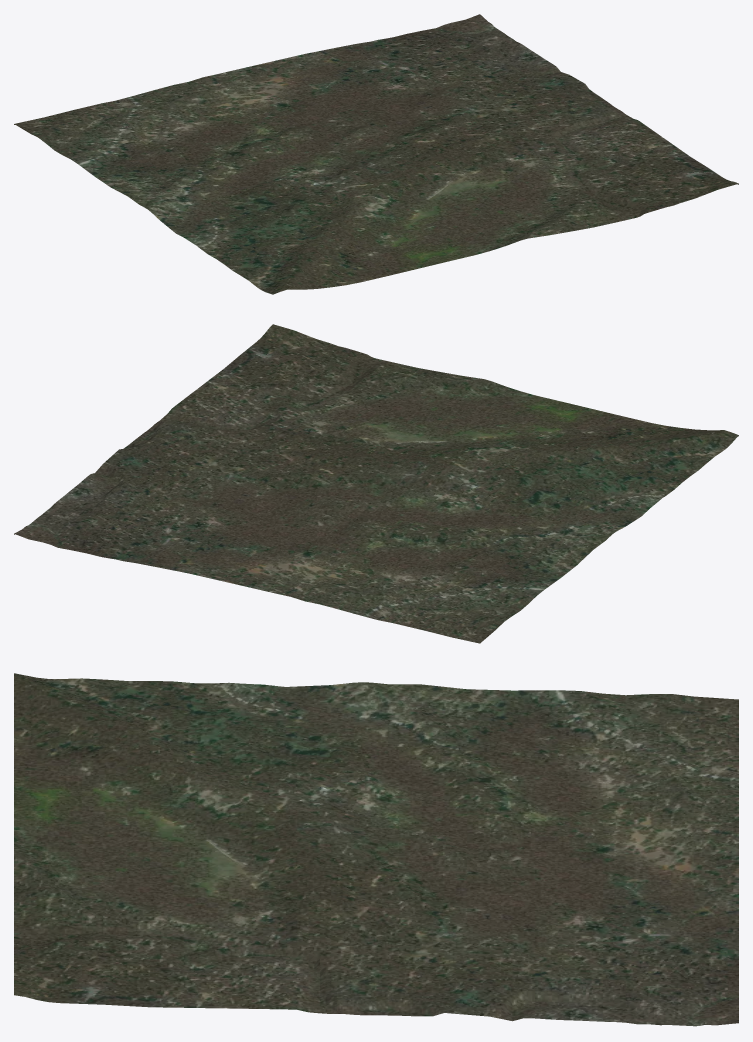
3 renders of one model, top to bottom at view 1: azimuth 30°, elevation 25°; view 2: azimuth 150°, elevation 25°; view 3: azimuth 270°, elevation 25°, orthographic. The views are drawn at different scales.
Bounding box in the file's own units: 1000 × 58.93 × 963.
Materials: 1 (1 with a texture image).
